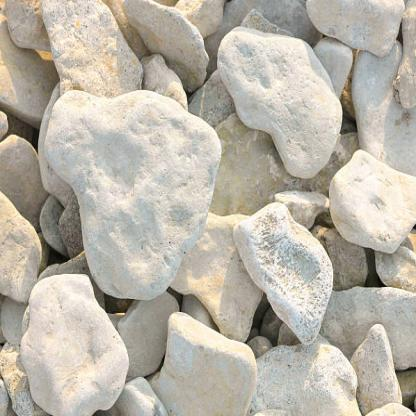Sedimentary_Limestone: (40, 75, 218, 294), (216, 21, 345, 188), (24, 271, 135, 415), (230, 196, 326, 337), (153, 316, 261, 415), (328, 136, 416, 256), (34, 0, 141, 95), (305, 0, 415, 62), (351, 318, 404, 415)
